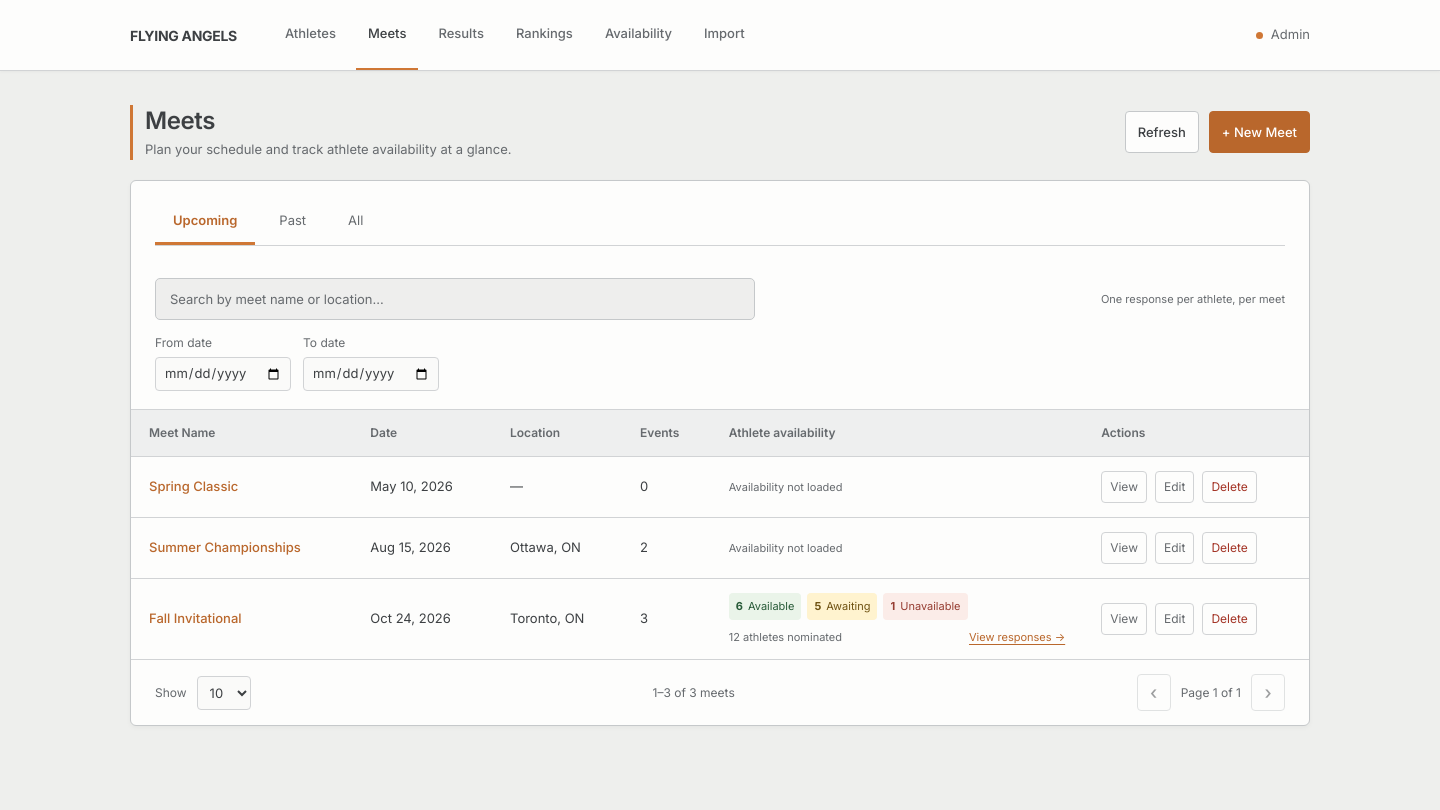
Test: Meets List › creates a meet with trimmed fields and null optional values
Expected: the column heading "Fall Invitational" is shown, top-left (131, 579), bottom-right (352, 659)
Click the button "+ New Meet": (1259,132) top-left (1209, 111), bottom-right (1310, 153)
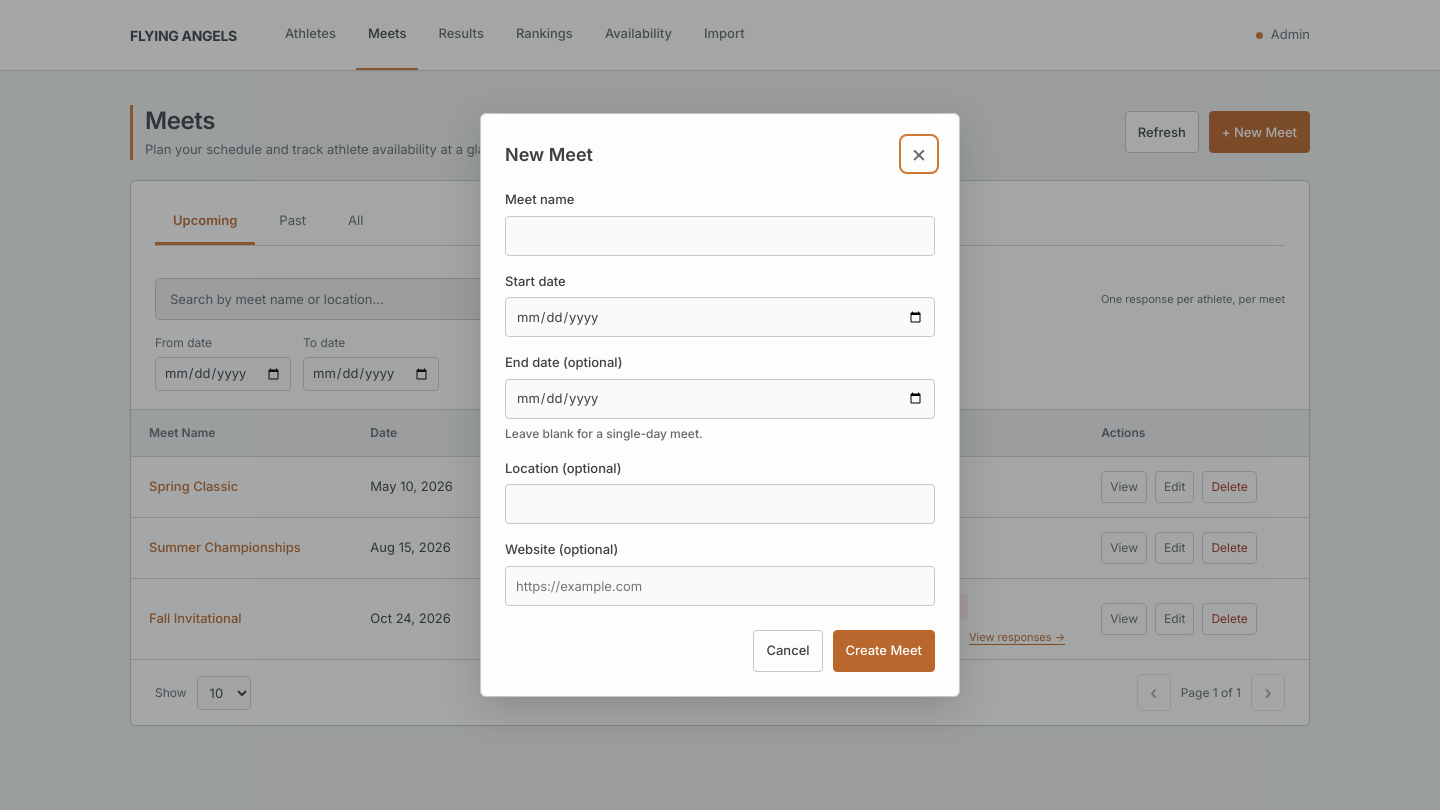
In the field labelled "Meet name": (720,236) top-left (505, 216), bottom-right (935, 256), type "  Winter Open  "
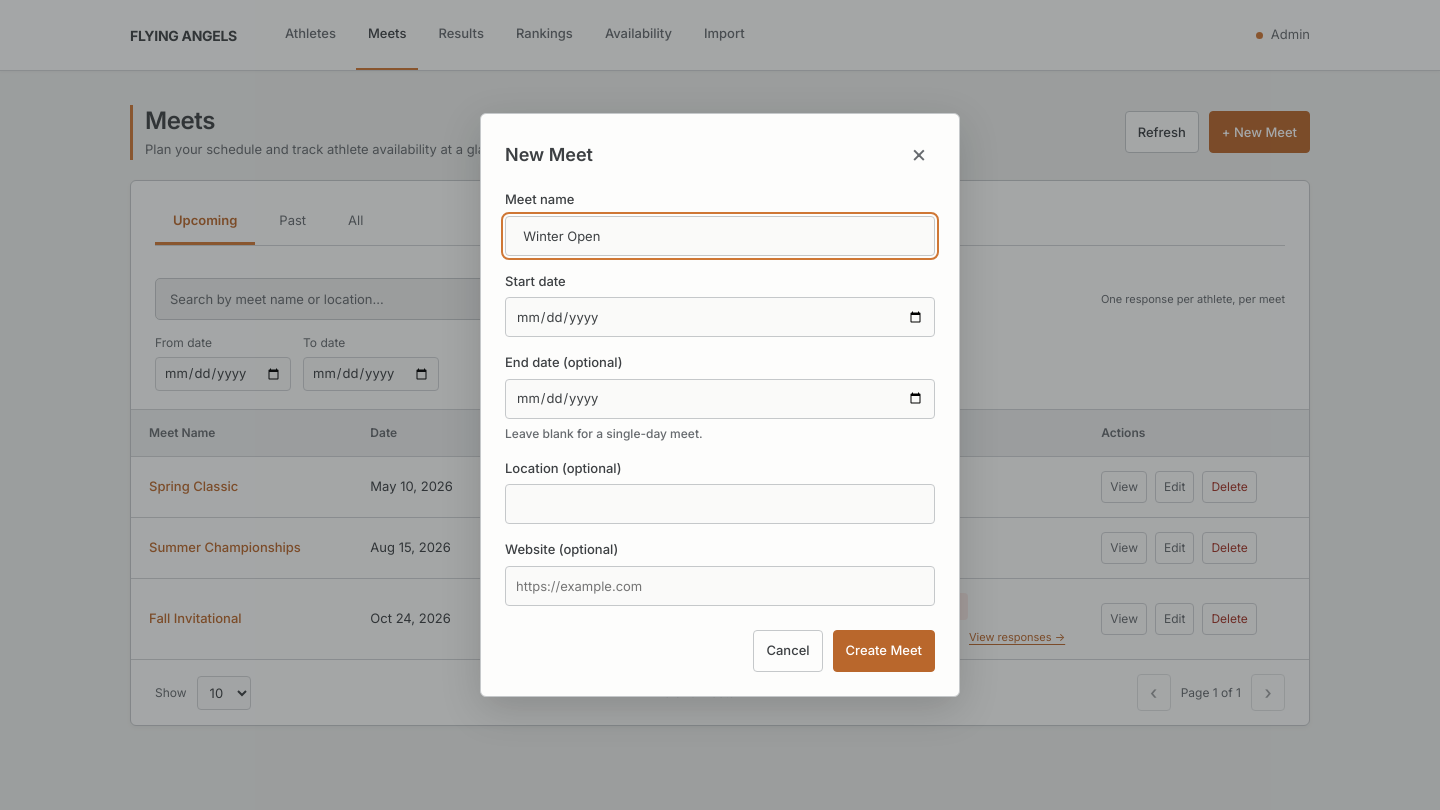
In the date field labelled "Start date": (720,317) top-left (505, 297), bottom-right (935, 337), type "2026-12-01"
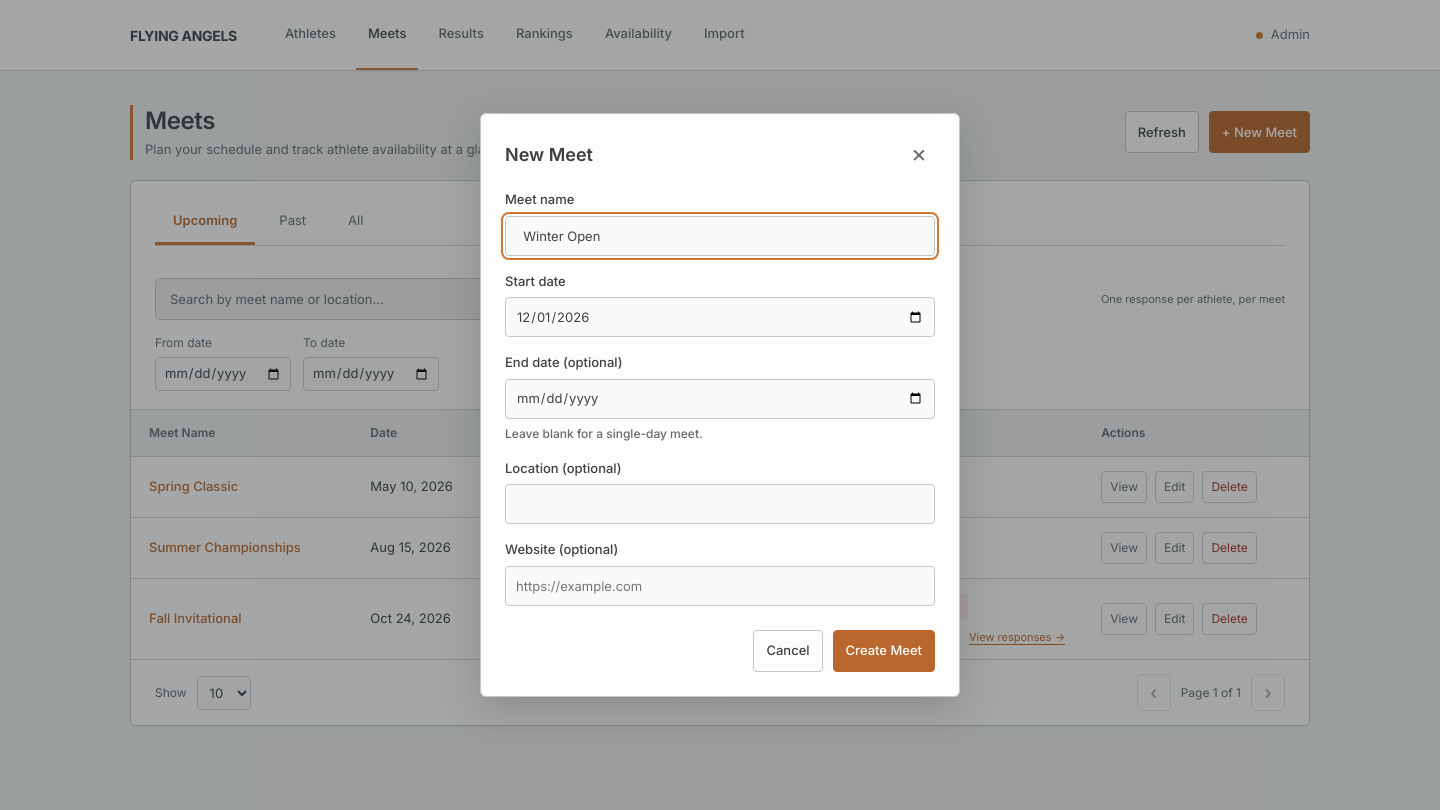
Click the button "Create Meet": (884,651) top-left (833, 630), bottom-right (935, 672)
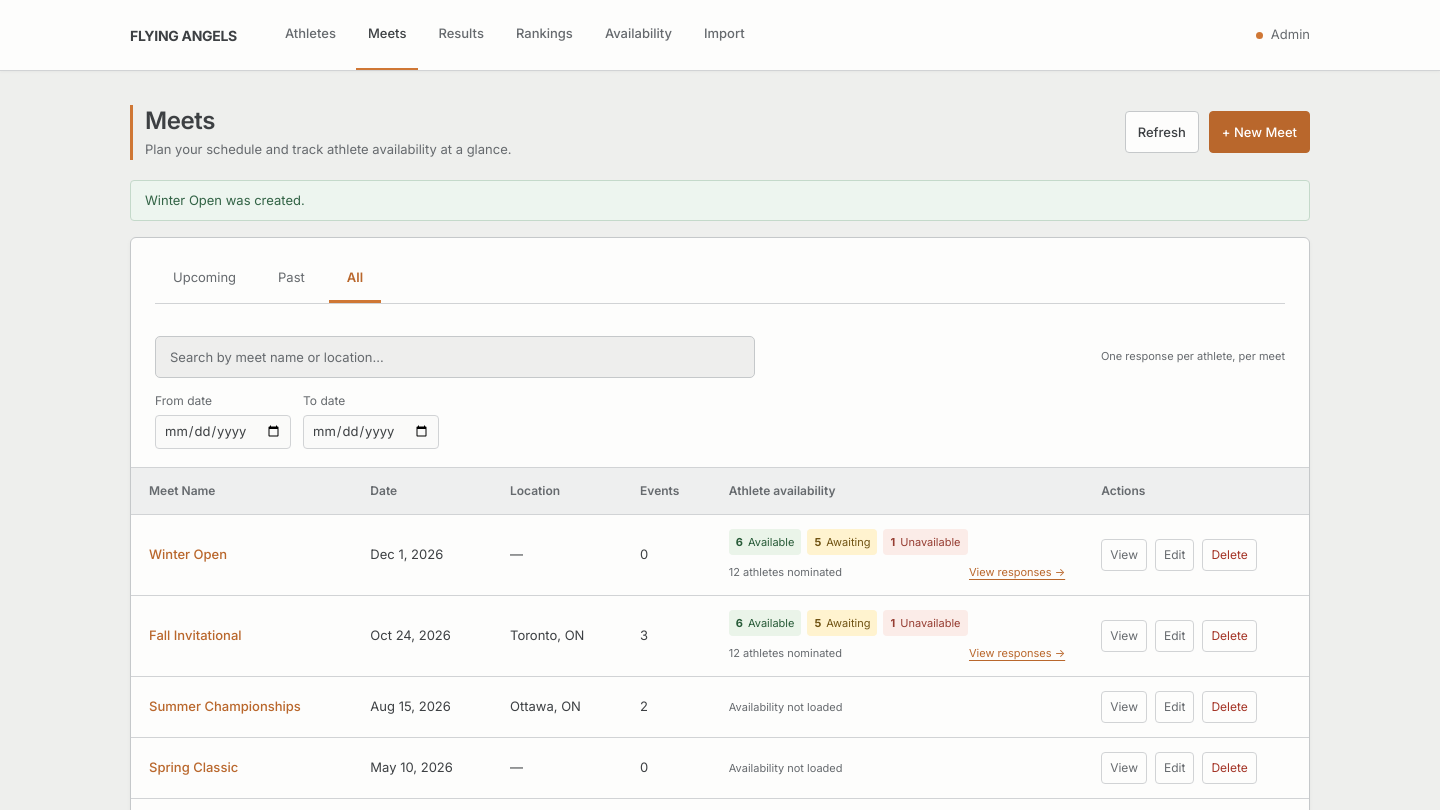
Expected: the column heading "Winter Open" is shown, top-left (131, 514), bottom-right (352, 595)
Expected: the dialog is gone
